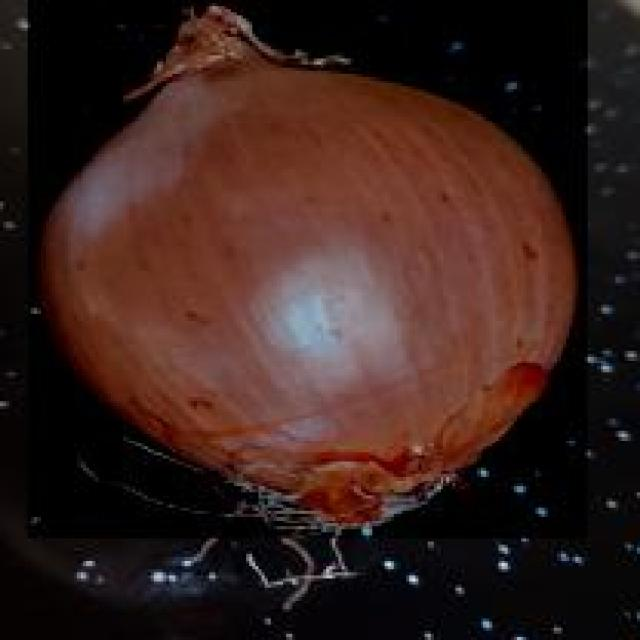onion: (28, 0, 590, 542)
